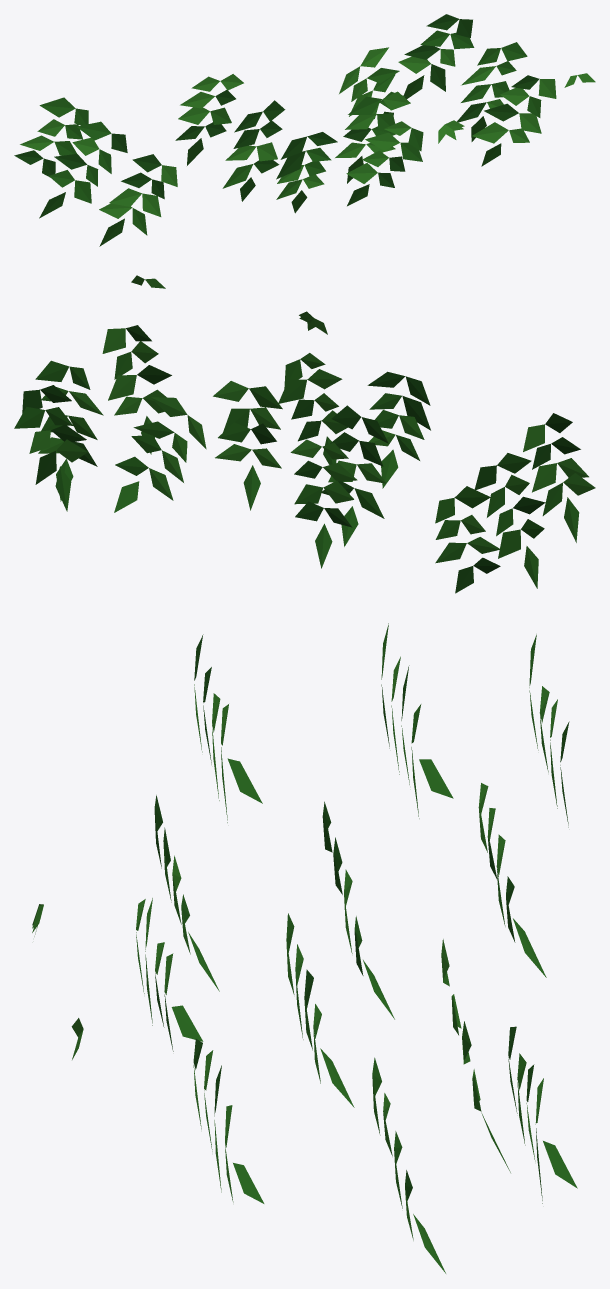
3 renders of one model, top to bottom at view 1: azimuth 30°, elevation 25°; view 2: azimuth 150°, elevation 25°; view 3: azimuth 270°, elevation 25°, orthographic. The views are drawn at different scales.
Parts seen in each view (by area): view 1: r18c1_l11; view 2: r18c1_l11; view 3: r18c1_l11.
Boxes of the visible parts, <box> form: r18c1_l11: <box>14,14,595,246</box>; r18c1_l11: <box>14,275,595,593</box>; r18c1_l11: <box>32,623,577,1273</box>.
Size of the model in its own units: 2.06 by 0.5534 by 1.04.
